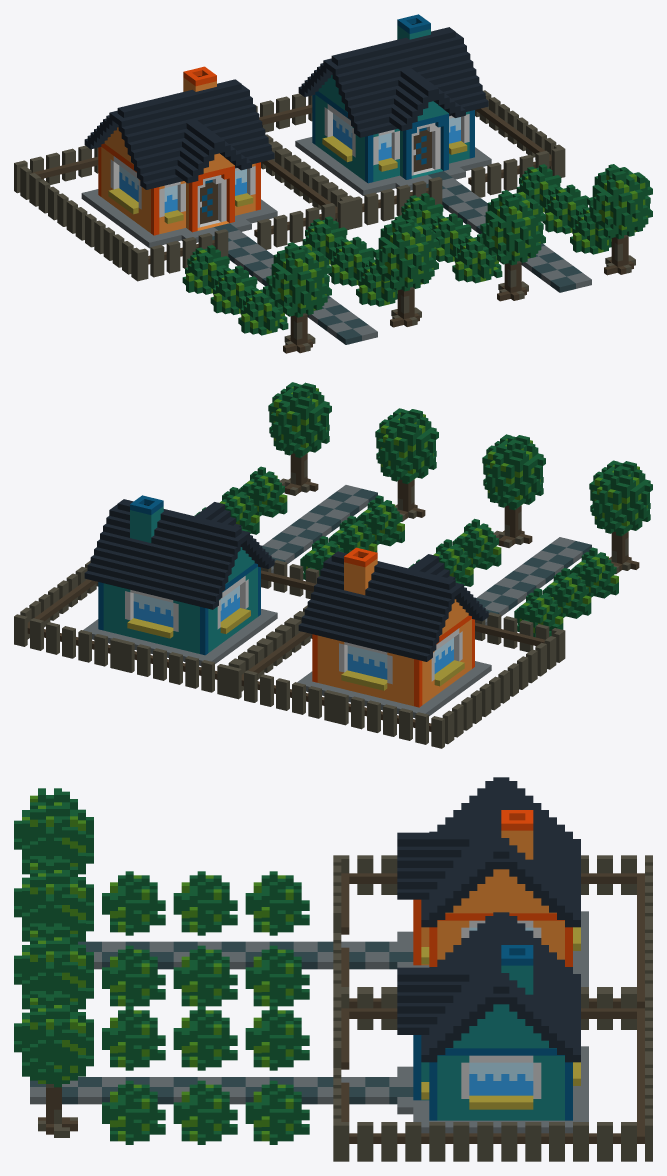
File: building_small_1_overtile.obj
3 views of the same model, one above another, from view 1: azimuth 30°, elevation 25°; view 2: azimuth 150°, elevation 25°; view 3: azimuth 270°, elevation 25° (orthographic). The views are drawn at different scales.
Bounding box in the file's own units: 8 × 2.2 × 8.
1 material, 1 textured.
